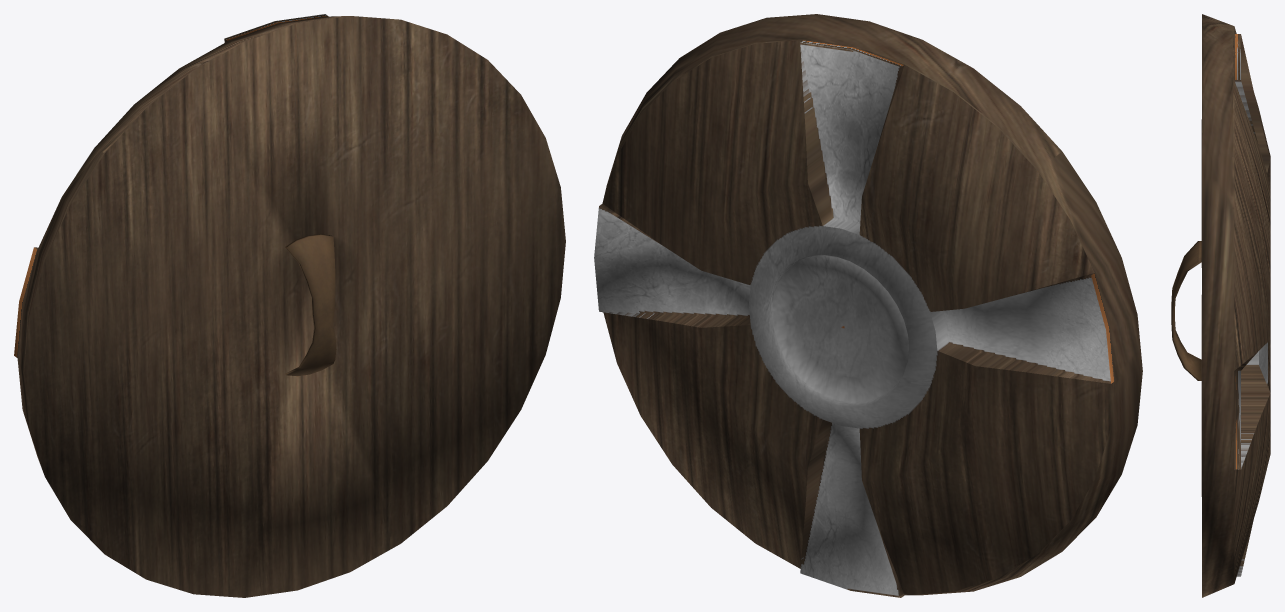
File: Shield.fbx
3 renders of one model, left to right at view 1: azimuth 30°, elevation 25°; view 2: azimuth 150°, elevation 25°; view 3: azimuth 270°, elevation 25°, orthographic. The views are drawn at different scales.
Visible parts, largest first — view 1: Circle.002; view 2: Circle.002; view 3: Circle.002.
Boxes of the visible parts, x1=… form: Circle.002: x1=14, y1=14, x2=565, y2=597; Circle.002: x1=594, y1=14, x2=1142, y2=597; Circle.002: x1=1171, y1=14, x2=1270, y2=597.
Size of the model in its own units: 330 by 330 by 56.
